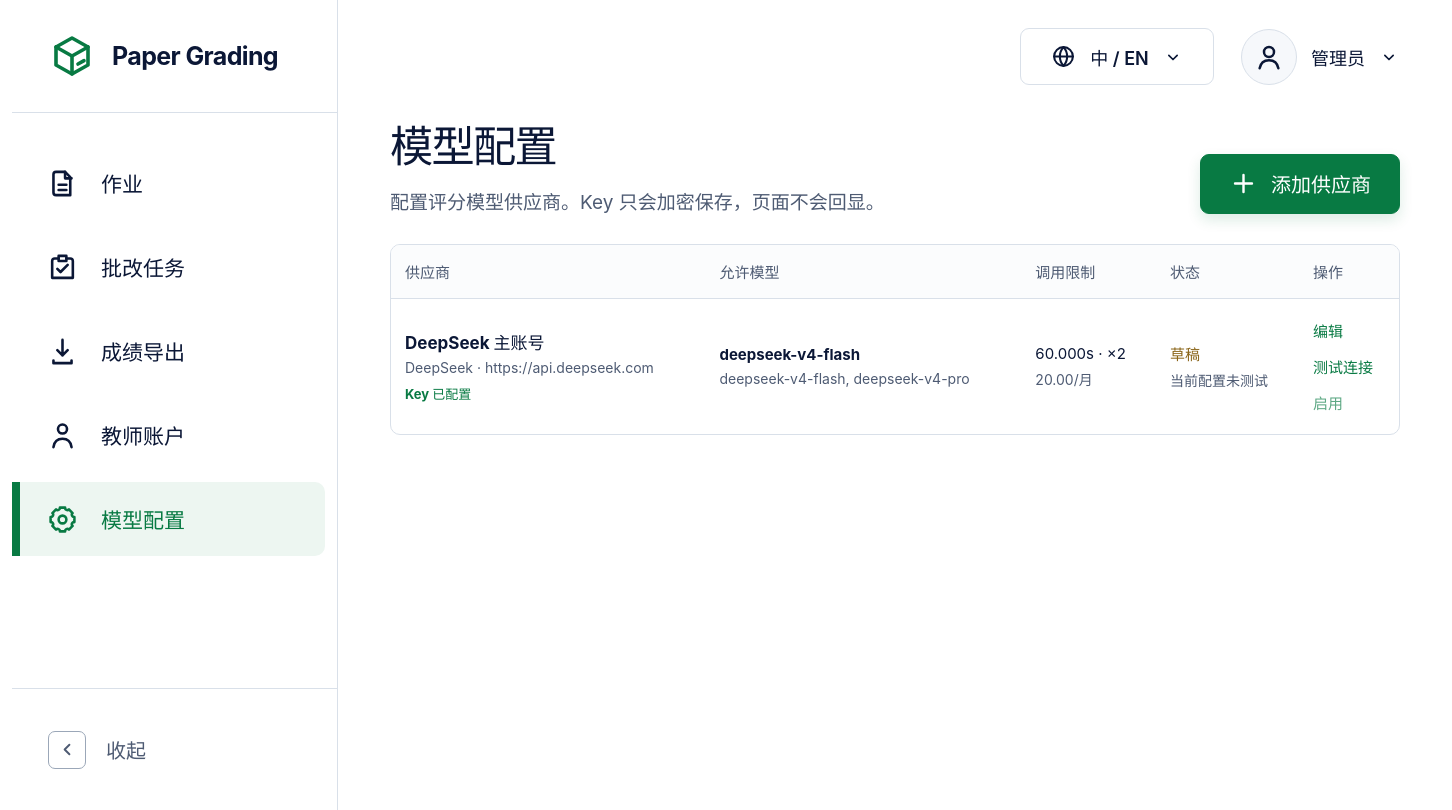
Test: 管理员模型配置 › 只有当前配置测试通过后才允许启用
This screenshot has width=1452, height=810.
Step 1. Click the button "测试连接" → point(1343, 366), box [1313, 351, 1373, 382]
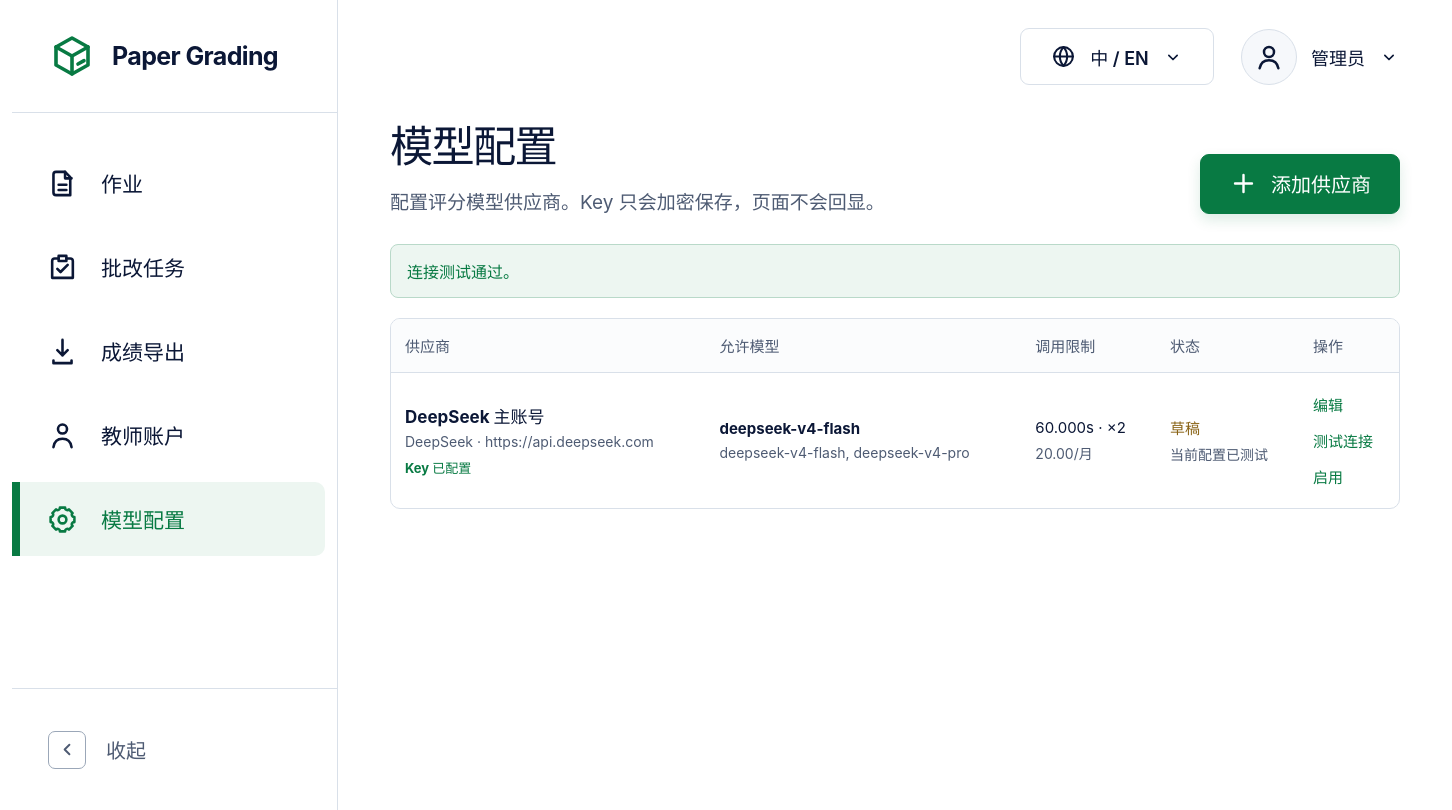
Expected: the text "连接测试通过。" is shown, [390, 244, 1400, 298]
Expected: the button "启用" is enabled
Step 2. Click the button "启用" → point(1328, 476), box [1313, 461, 1343, 492]
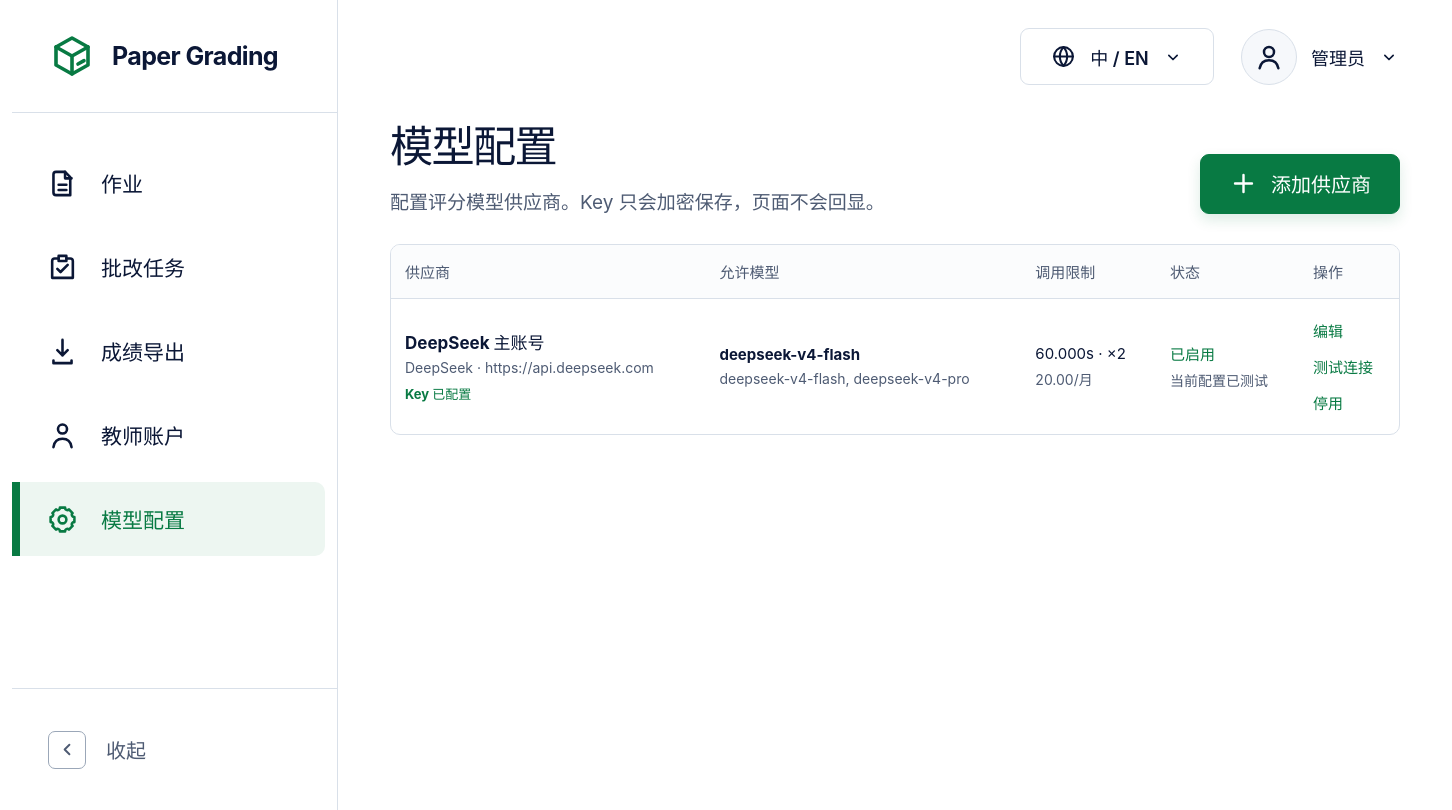
Expected: the text "已启用" is shown, [1170, 345, 1215, 364]
